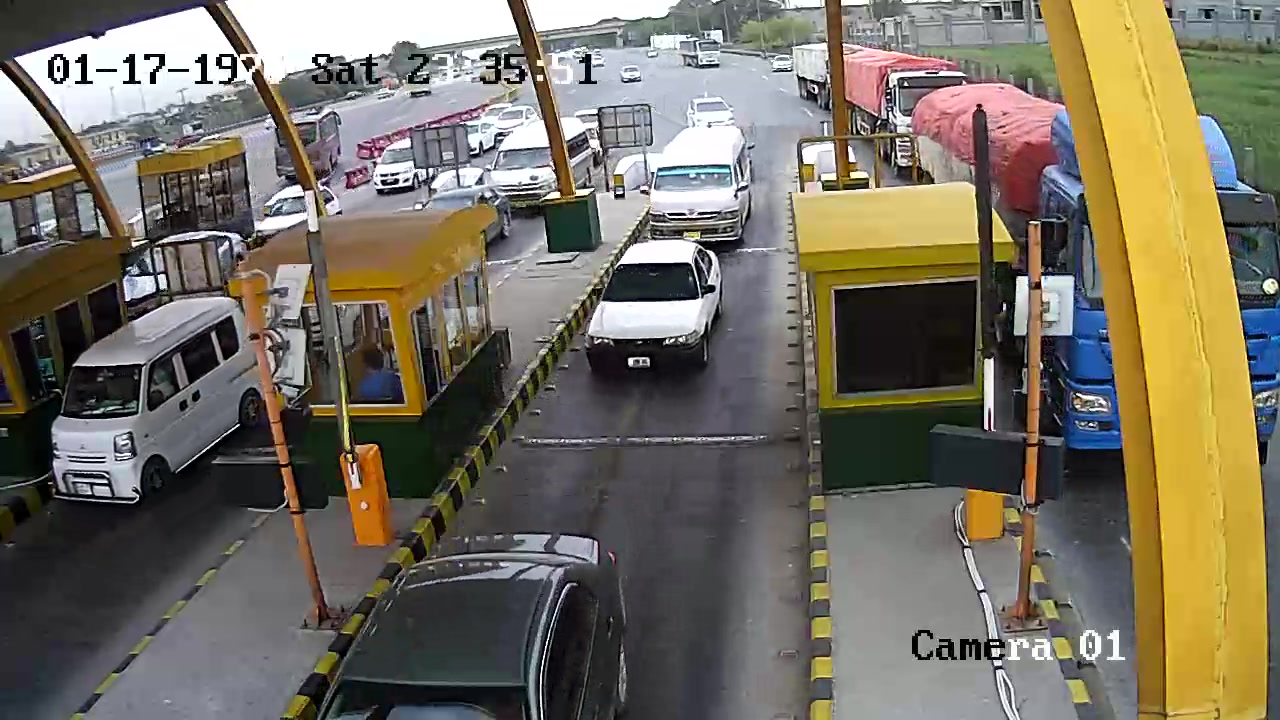F1: (582, 239, 737, 384)
